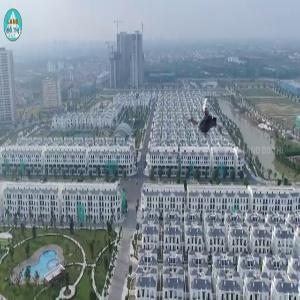drone: (183, 91, 239, 147)
